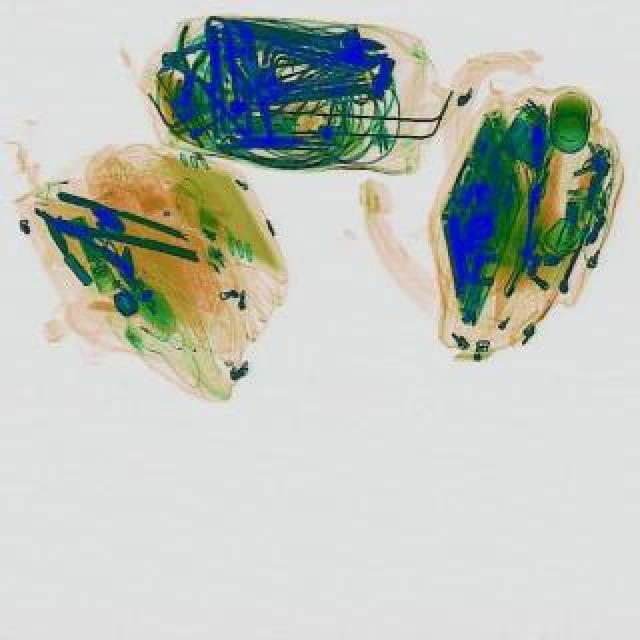scissors: (206, 4, 390, 78)
wrench: (156, 34, 234, 98)
